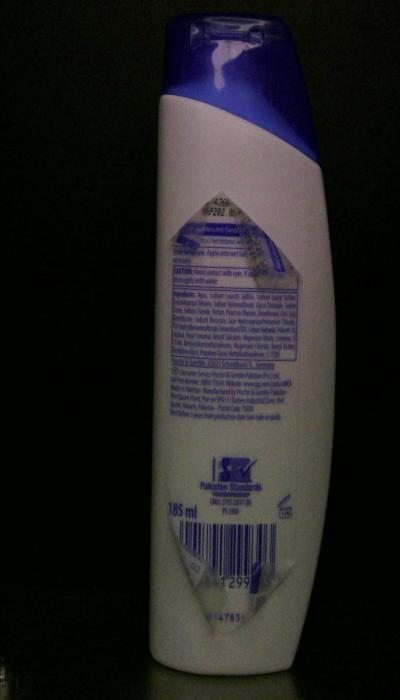adhesion_unacc: (164, 518, 233, 640), (232, 199, 298, 286), (244, 550, 308, 628), (173, 192, 226, 259)
